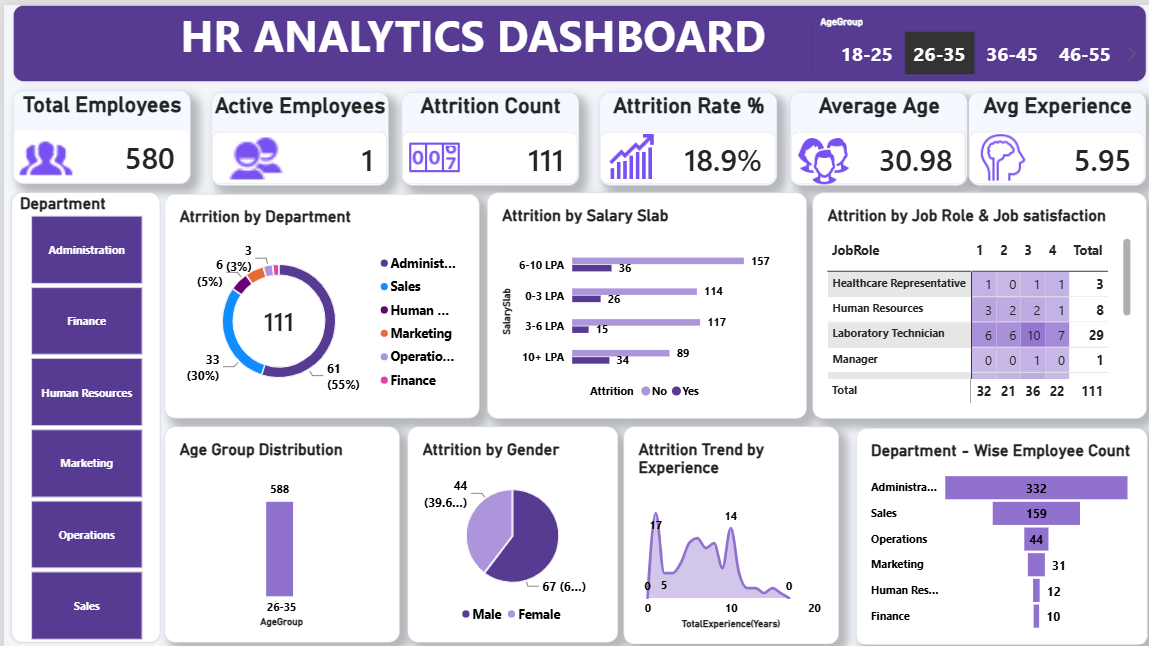

What the dashboard file says about the page in this screenshot:
{"tool":"powerbi","page":{"name":"Page 1","canvas":[1920,1080],"ordinal":0},"visuals":[{"type":"textbox","box":[10,0,1259,85],"z":0},{"type":"cardVisual","title":"Total Employees","fields":{"Data":["Count(HR_Analytics-4.EmpID)"]},"box":[10,95,197,104],"z":1000},{"type":"cardVisual","title":"Active Employees","fields":{"Data":["Count(HR_Analytics-4.EmployeeCount)"]},"box":[230,96,197,104],"z":2000},{"type":"cardVisual","title":"Attrition Count","fields":{"Data":["Sum(HR_Analytics-4.AtrritionCount)"]},"box":[442,96,197,104],"z":3000},{"type":"cardVisual","title":"Attrition Rate %","fields":{"Data":["HR_Analytics-4.Attrition Rate %"]},"box":[662,96,197,104],"z":4000},{"type":"cardVisual","title":"Average Age","fields":{"Data":["Avg(HR_Analytics-4.Age)"]},"box":[874,96,197,104],"z":5000},{"type":"cardVisual","title":"Avg Experience","fields":{"Data":["Avg(HR_Analytics-4.YearsatCompany)"]},"box":[1072,96,197,104],"z":6000},{"type":"image","box":[10,140,73.3,58.3],"z":7000},{"type":"image","box":[1072.5,140,73.3,58.3],"z":8000},{"type":"image","box":[243.3,140,73.3,58.3],"z":9000},{"type":"image","box":[662.5,142.5,66.7,50],"z":10000},{"type":"image","box":[875,142.5,73.3,58.3],"z":11000},{"type":"image","box":[441.7,140,73.3,58.3],"z":12000},{"type":"donutChart","title":"Atrrition by Department","fields":{"Category":["HR_Analytics-4.Department"],"Y":["Sum(HR_Analytics-4.AtrritionCount)"]},"box":[179,210,350,249],"z":13000},{"type":"clusteredBarChart","title":"Attrition by Salary Slab","fields":{"Category":["HR_Analytics-4.SalarySlab"],"Series":["HR_Analytics-4.Attrition"],"Y":["CountNonNull(HR_Analytics-4.EmpID)"]},"box":[537,209,355,251],"z":14000},{"type":"pivotTable","title":"Attrition by Job Role & Job satisfaction","fields":{"Columns":["HR_Analytics-4.JobSatisfaction"],"Rows":["HR_Analytics-4.JobRole"],"Values":["Sum(HR_Analytics-4.AtrritionCount)"]},"box":[898,209,371,251],"z":15000},{"type":"columnChart","title":"Age Group Distribution","fields":{"Category":["HR_Analytics-4.AgeGroup"],"Y":["Sum(HR_Analytics-4.EmployeeCount)"]},"box":[179,469,261,240],"z":16000},{"type":"pieChart","title":"Attrition by Gender","fields":{"Category":["HR_Analytics-4.Gender"],"Y":["Sum(HR_Analytics-4.AtrritionCount)"]},"box":[448,469,234,240],"z":17000},{"type":"areaChart","title":"Attrition Trend by Experience","fields":{"Category":["HR_Analytics-4.TotalExperience(Years)"],"Y2":["Sum(HR_Analytics-4.AtrritionCount)"]},"box":[689,469,239,242],"z":18000},{"type":"funnel","title":"Department - Wise Employee Count","fields":{"Category":["HR_Analytics-4.Department"],"Y":["CountNonNull(HR_Analytics-4.EmpID)"]},"box":[946,470,324,242],"z":19000},{"type":"slicer","fields":{"Values":["HR_Analytics-4.Department"]},"box":[9,209,165,500],"z":20000},{"type":"slicer","fields":{"Values":["HR_Analytics-4.AgeGroup"]},"box":[898,12,361,68],"z":21000}]}

Visuals, with their boxes in screenshot pixels (x1, y1, x2, y2), scaled from the page's 1920x1080 canvas onto the 1149x646 screenshot:
textbox: x1=6, y1=0, x2=759, y2=51
"Total Employees" cardVisual: x1=6, y1=57, x2=124, y2=119
"Active Employees" cardVisual: x1=138, y1=57, x2=256, y2=120
"Attrition Count" cardVisual: x1=265, y1=57, x2=382, y2=120
"Attrition Rate %" cardVisual: x1=396, y1=57, x2=514, y2=120
"Average Age" cardVisual: x1=523, y1=57, x2=641, y2=120
"Avg Experience" cardVisual: x1=642, y1=57, x2=759, y2=120
image: x1=6, y1=84, x2=50, y2=119
image: x1=642, y1=84, x2=686, y2=119
image: x1=146, y1=84, x2=189, y2=119
image: x1=396, y1=85, x2=436, y2=115
image: x1=524, y1=85, x2=567, y2=120
image: x1=264, y1=84, x2=308, y2=119
"Atrrition by Department" donutChart: x1=107, y1=126, x2=317, y2=275
"Attrition by Salary Slab" clusteredBarChart: x1=321, y1=125, x2=534, y2=275
"Attrition by Job Role & Job satisfaction" pivotTable: x1=537, y1=125, x2=759, y2=275
"Age Group Distribution" columnChart: x1=107, y1=281, x2=263, y2=424
"Attrition by Gender" pieChart: x1=268, y1=281, x2=408, y2=424
"Attrition Trend by Experience" areaChart: x1=412, y1=281, x2=555, y2=425
"Department - Wise Employee Count" funnel: x1=566, y1=281, x2=760, y2=426
slicer - HR_Analytics-4.Department: x1=5, y1=125, x2=104, y2=424
slicer - HR_Analytics-4.AgeGroup: x1=537, y1=7, x2=753, y2=48
